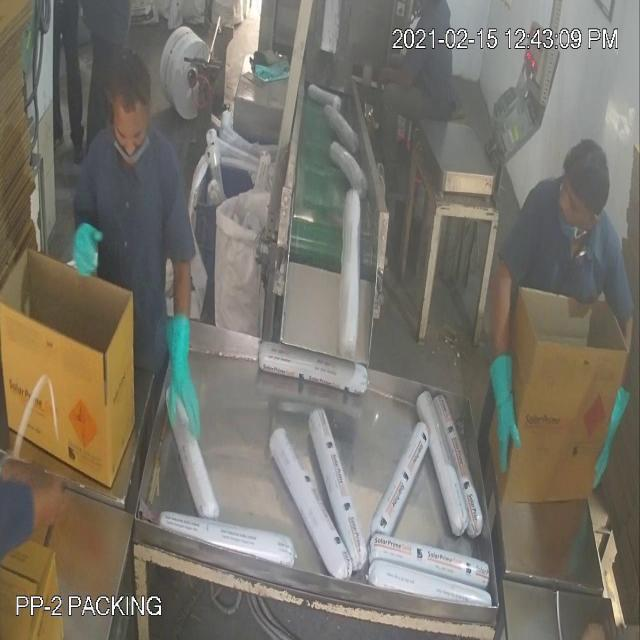Gloves: (46, 32, 512, 412)
